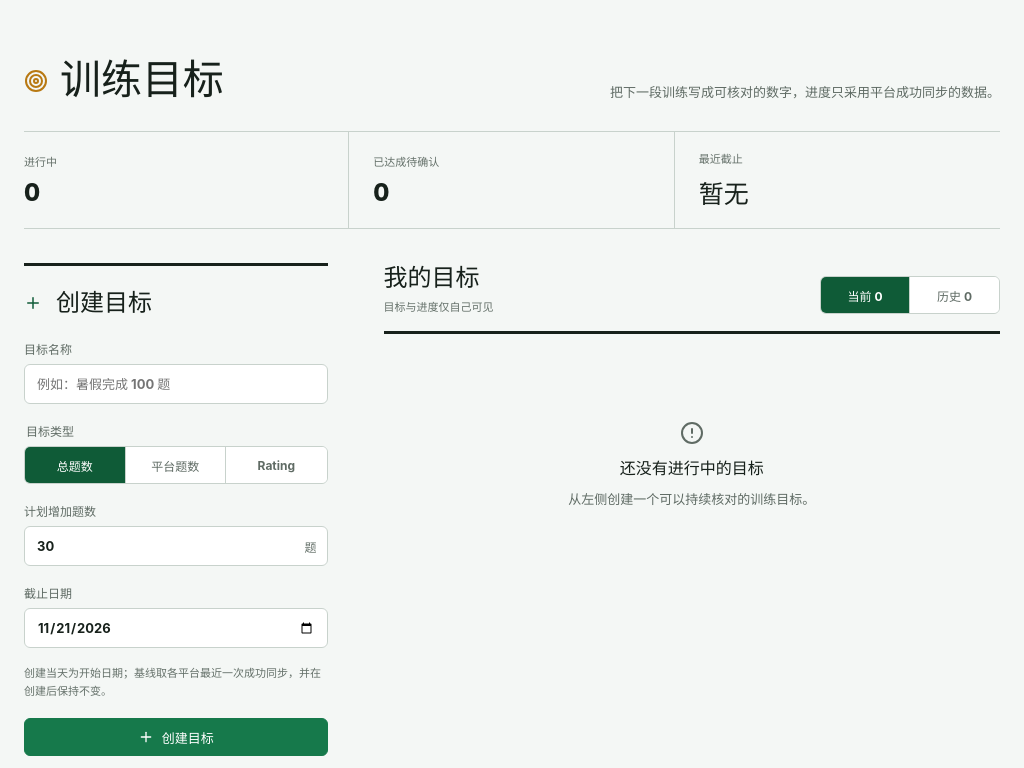
Test: TrainingGoalsPage › shows explicit empty states for current and historical goals
This screenshot has width=1024, height=768.
Check: the text "还没有进行中的目标" is shown, box [620,454,764,478]
Check: the text "从左侧创建一个可以持续核对的训练目标。" is shown, box [568,488,815,508]
Click the button "历史 0". click: (954, 295)
box: [910,277,999,313]
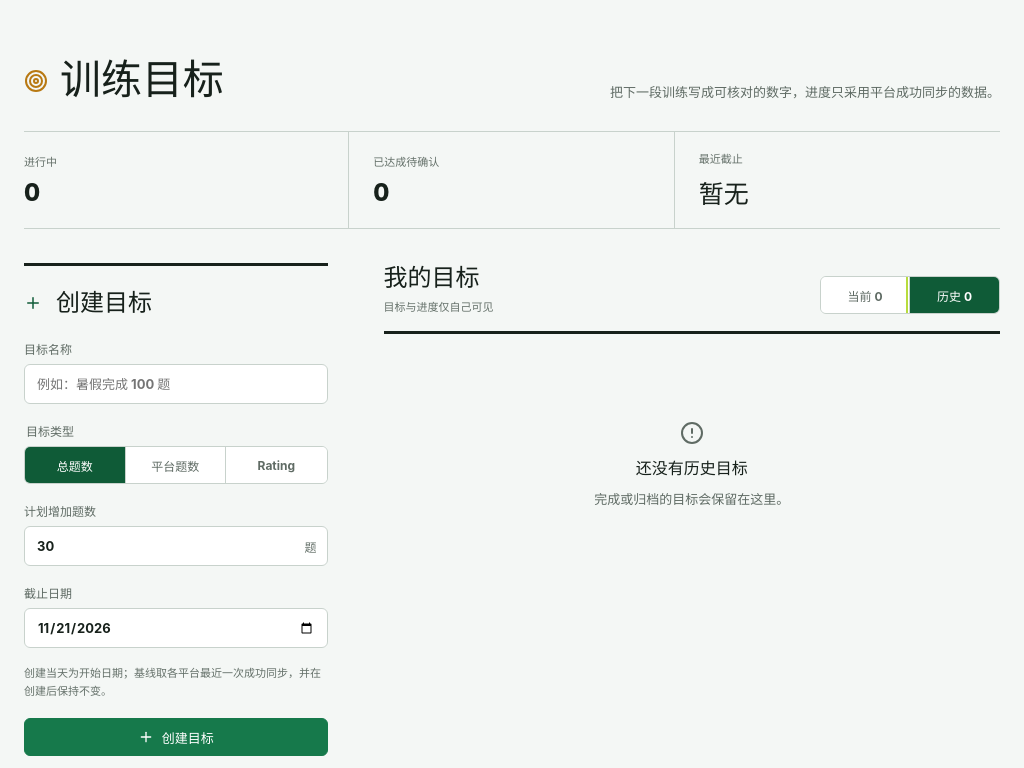
Check: the text "还没有历史目标" is shown, box [636,454,748,478]
Check: the text "完成或归档的目标会保留在这里。" is shown, box [594,488,789,508]
